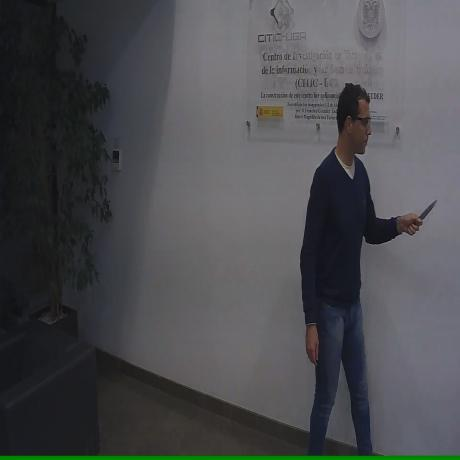1: (298, 85, 410, 460)
weapon: (409, 200, 437, 232)
